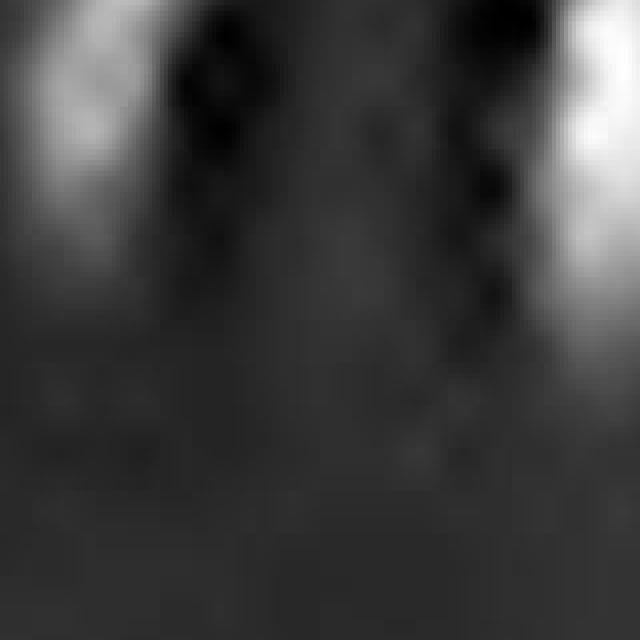person: (1, 1, 241, 305), (485, 1, 640, 385)
